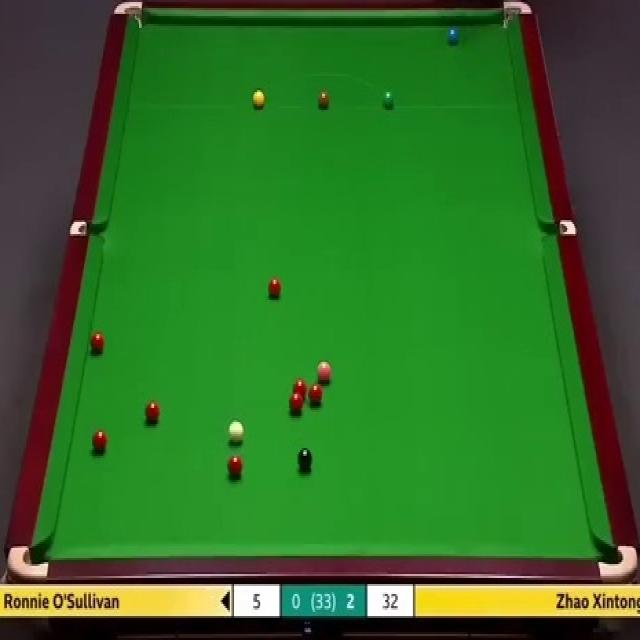pocket: (597, 537, 639, 581), (8, 545, 51, 580), (112, 0, 148, 32), (499, 0, 534, 31), (537, 218, 578, 238), (71, 218, 110, 237)
